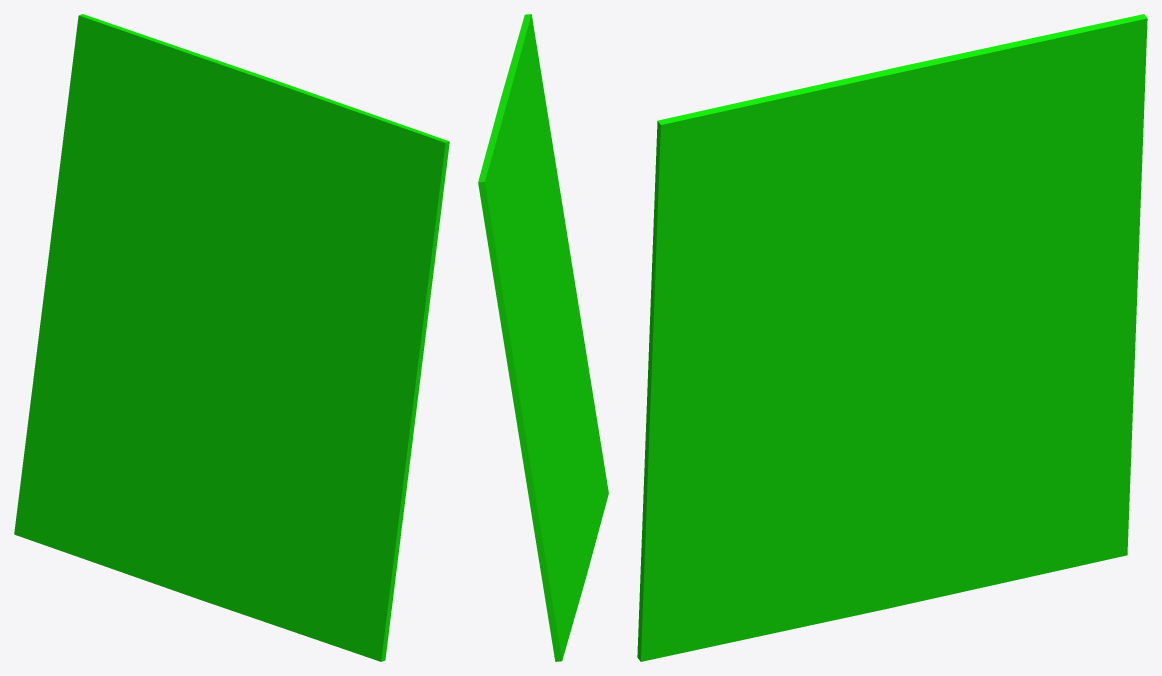
Rendered from anti_slide_mat.FBX.
The picture shows the model from 3 angles, left to right: view 1: azimuth 30°, elevation 25°; view 2: azimuth 150°, elevation 25°; view 3: azimuth 270°, elevation 25°; orthographic projection. The views are drawn at different scales.
Parts seen in each view (by area): view 1: hoover; view 2: hoover; view 3: hoover.
Boxes of the visible parts, x1,y1,x2,y2 form: hoover: (14, 14, 449, 661); hoover: (478, 14, 608, 661); hoover: (637, 14, 1147, 661).
Bounding box in the file's own units: 20.41 × 41.86 × 32.49.
